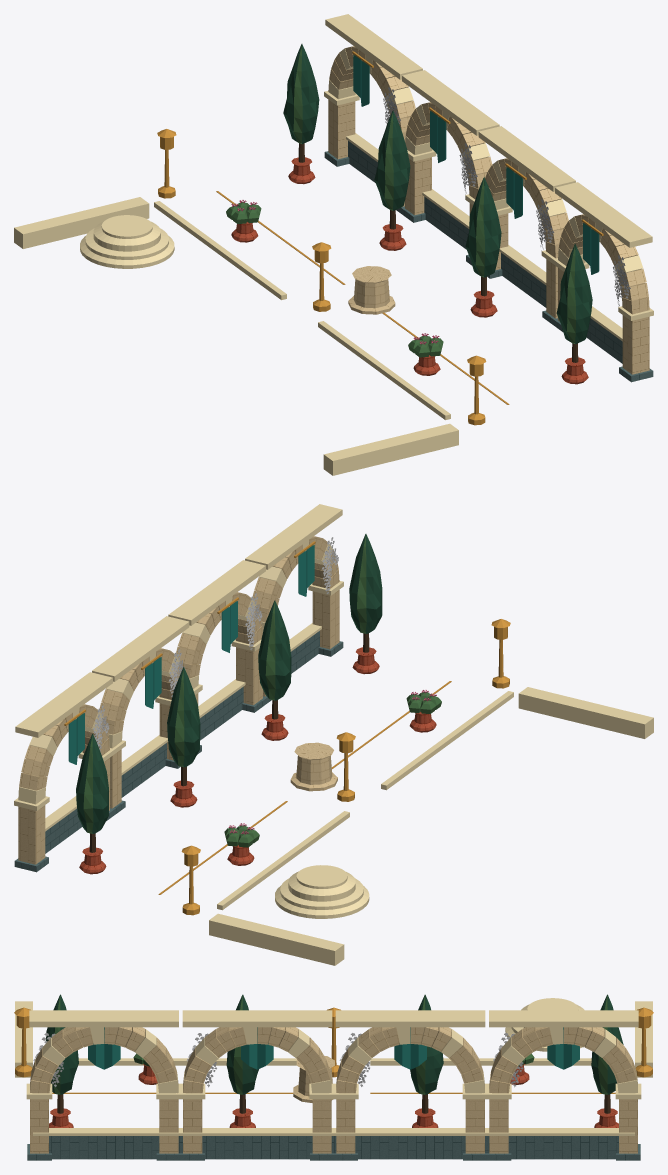
The model's file is district-east.obj.
3 renders of one model, top to bottom at view 1: azimuth 30°, elevation 25°; view 2: azimuth 150°, elevation 25°; view 3: azimuth 270°, elevation 25°, orthographic.
Bounding box in the file's own units: 20.73 × 9.33 × 35.1.
Materials: 12 (4 with a texture image).
